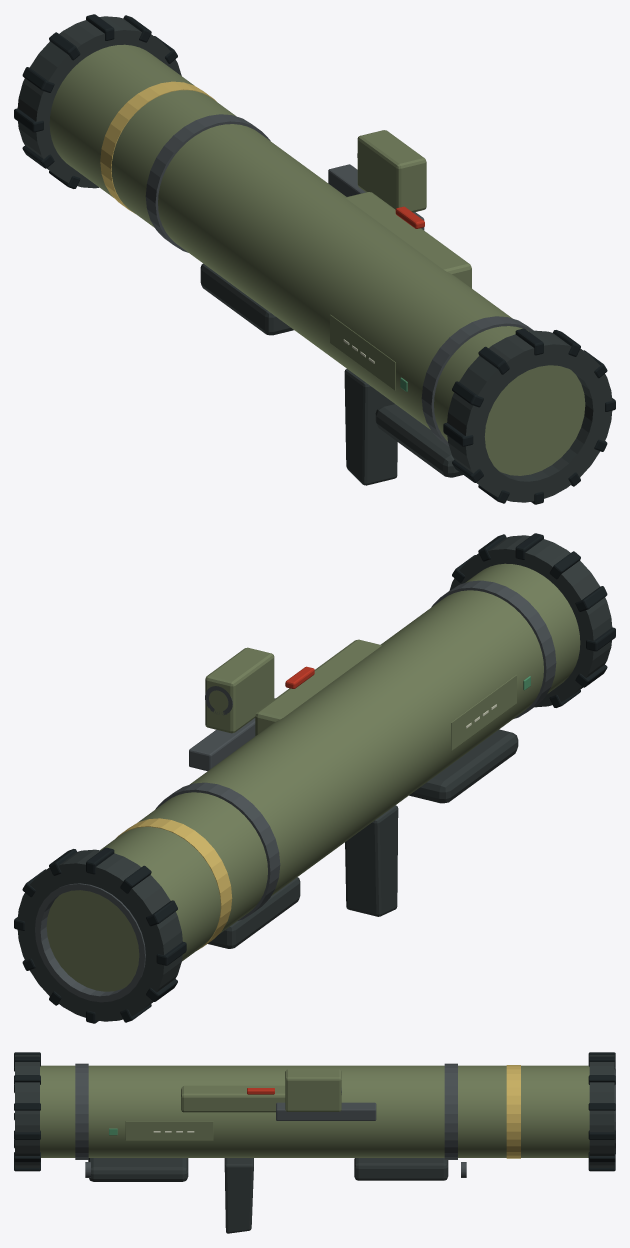
Rendered from rocket_1.glb.
The picture shows the model from 3 angles, top to bottom: view 1: azimuth 30°, elevation 25°; view 2: azimuth 150°, elevation 25°; view 3: azimuth 270°, elevation 25°; orthographic projection. The views are drawn at different scales.
Parts seen in each view (by area): view 1: Weapon_rocket_realism_v2; view 2: Weapon_rocket_realism_v2; view 3: Weapon_rocket_realism_v2.
Boxes of the visible parts, box(x1,y1,x2,y2) form: Weapon_rocket_realism_v2: box(14, 14, 615, 504); Weapon_rocket_realism_v2: box(14, 533, 615, 1023); Weapon_rocket_realism_v2: box(14, 1052, 615, 1233).
Bounding box in the file's own units: 0.2075 × 0.3179 × 0.9615.
